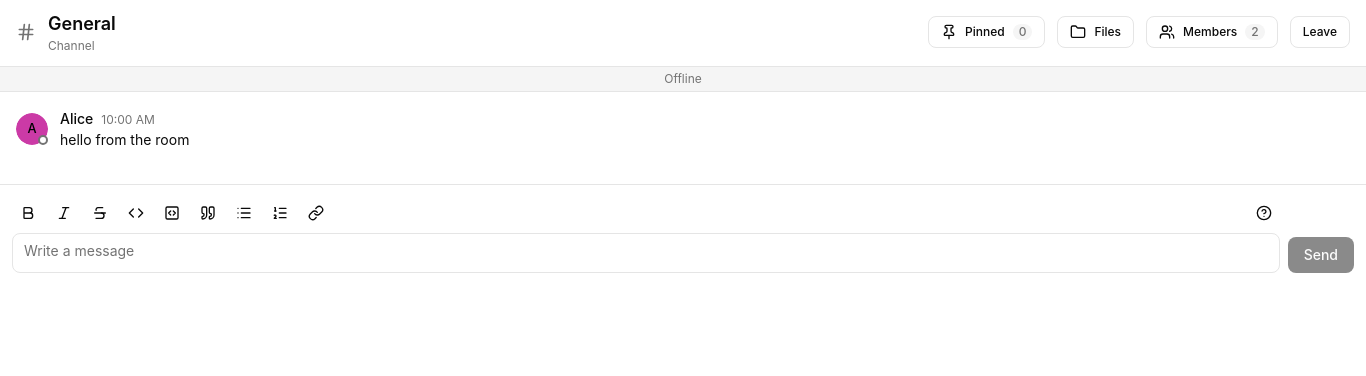
Test case: puts the members toggle in the room header and opens the panel beside the chat
This screenshot has width=1366, height=376.
Click the button "Members 2".
click(1212, 32)  # box [1146, 16, 1278, 48]
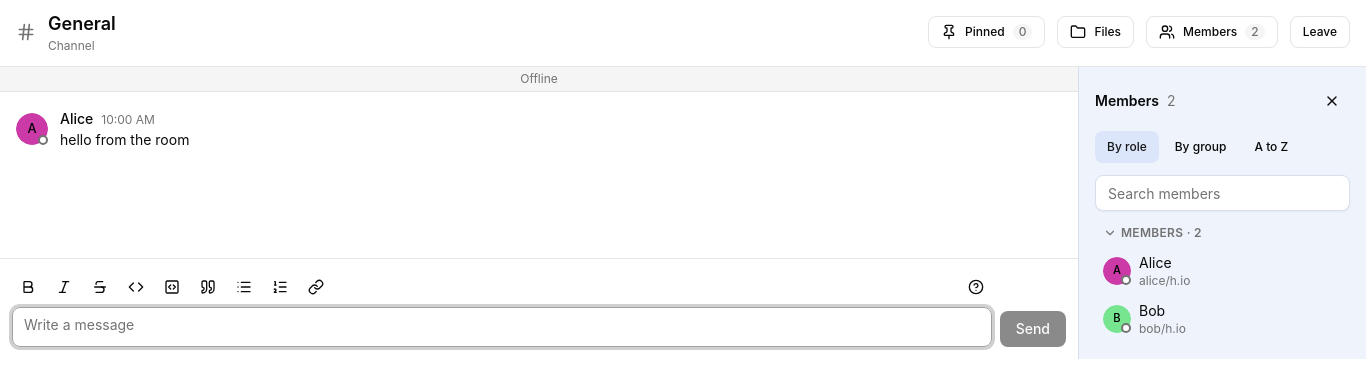
expect the text "hello from the room" is shown: met, box [60, 131, 189, 148]
expect the text "Bob" is shown: met, box [1139, 302, 1165, 319]
